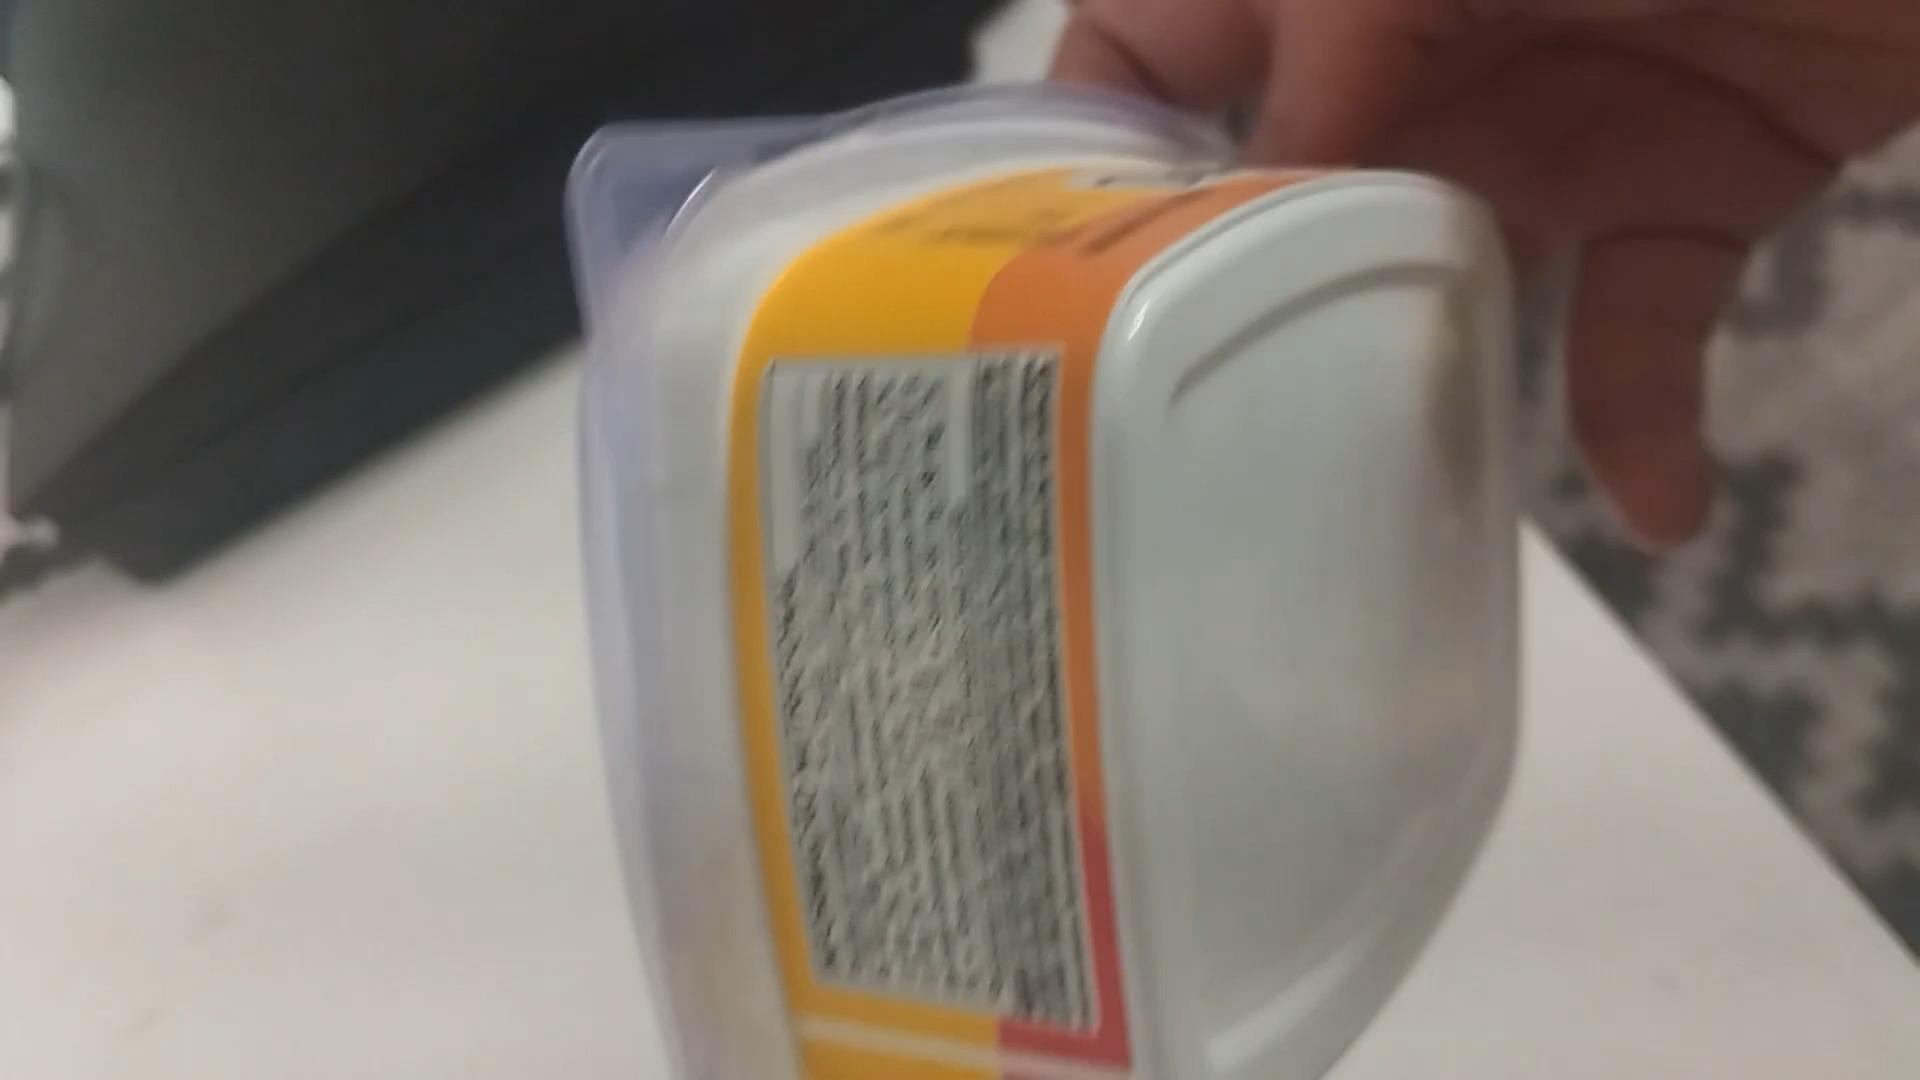butter: (560, 84, 1515, 1080)
